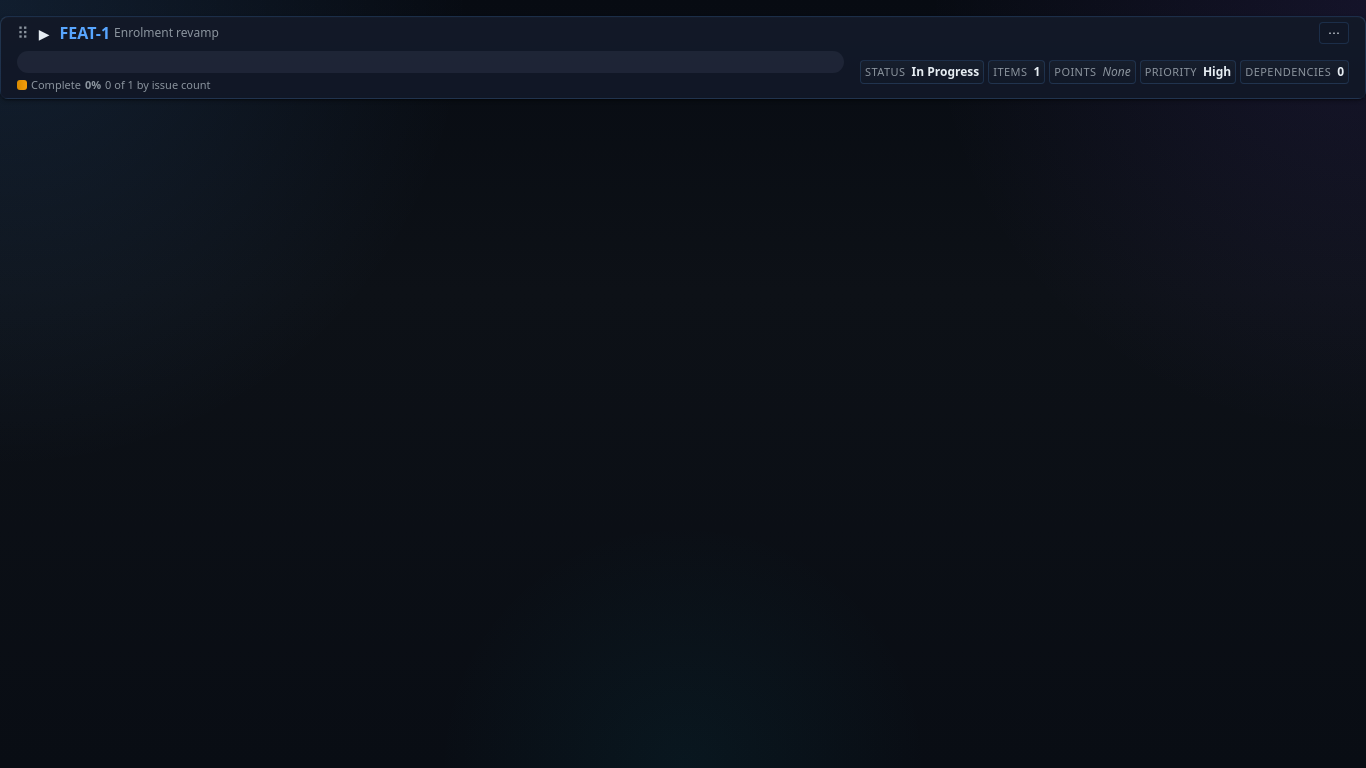
Test: MasterCardLane — flagging the Feature itself as blocked › offers flagging the Feature the same way a child issue is flagged
Click the button named "Actions for FEAT-1". click: (1334, 33)
box: x1=1319 y1=22 x2=1349 y2=44
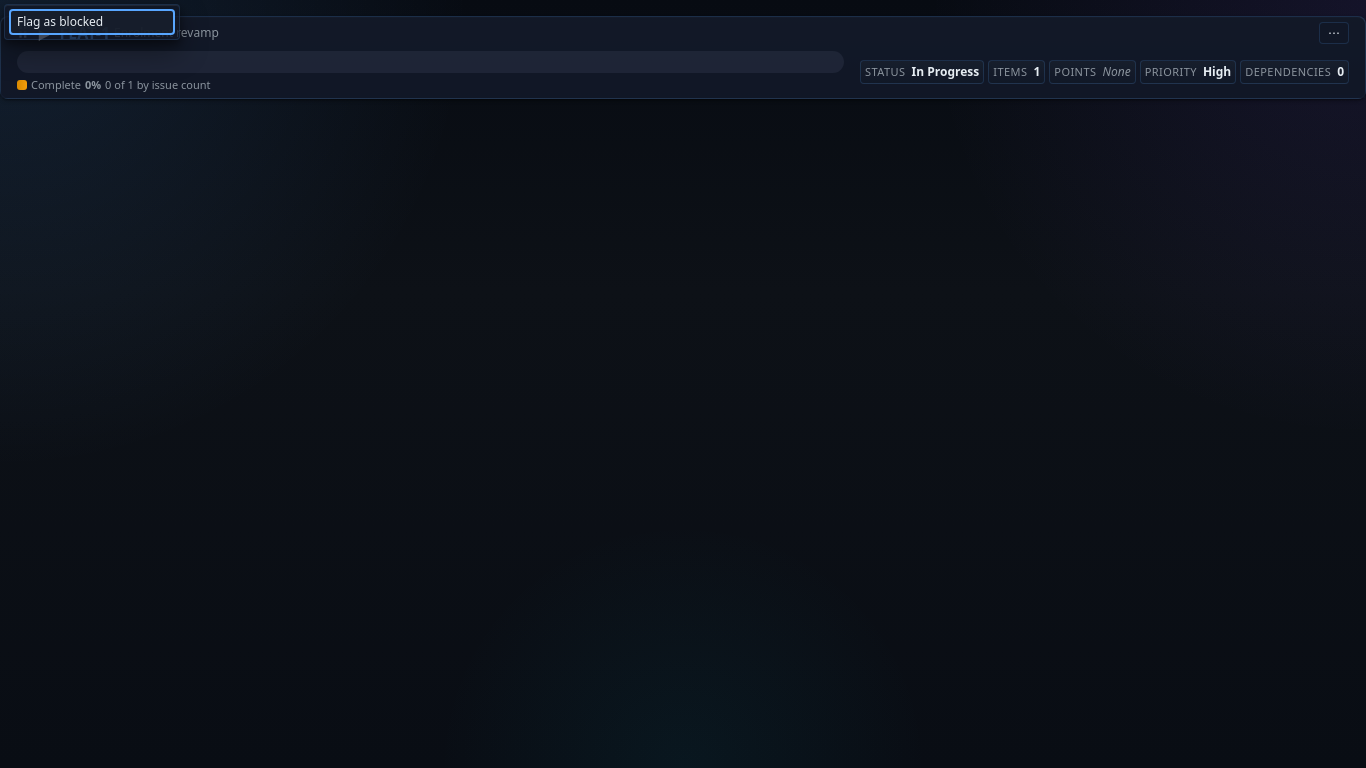
Expected: the menu item "Flag as blocked" is shown, x1=9 y1=9 x2=175 y2=35
